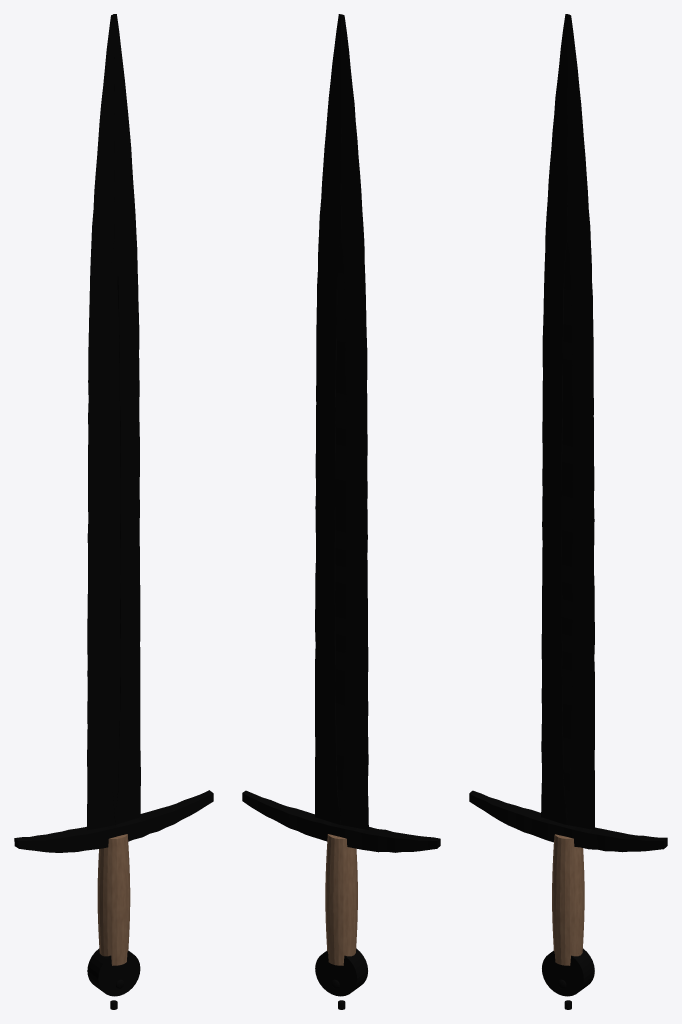
File: weapon_sword_broad_common_final.fbx
3 views of the same model, side by side, from view 1: azimuth 30°, elevation 25°; view 2: azimuth 150°, elevation 25°; view 3: azimuth 330°, elevation 25° (orthographic).
Parts seen in each view (by area): view 1: SM_Sword_Broad_Common; view 2: SM_Sword_Broad_Common; view 3: SM_Sword_Broad_Common.
Boxes of the visible parts, box(x1,y1,x2,y2) form: SM_Sword_Broad_Common: box(14, 14, 213, 1009); SM_Sword_Broad_Common: box(242, 14, 440, 1009); SM_Sword_Broad_Common: box(469, 14, 667, 1009).
Bounding box in the file's own units: 18.57 × 2.7 × 90.19.
3 materials, 3 textured.
